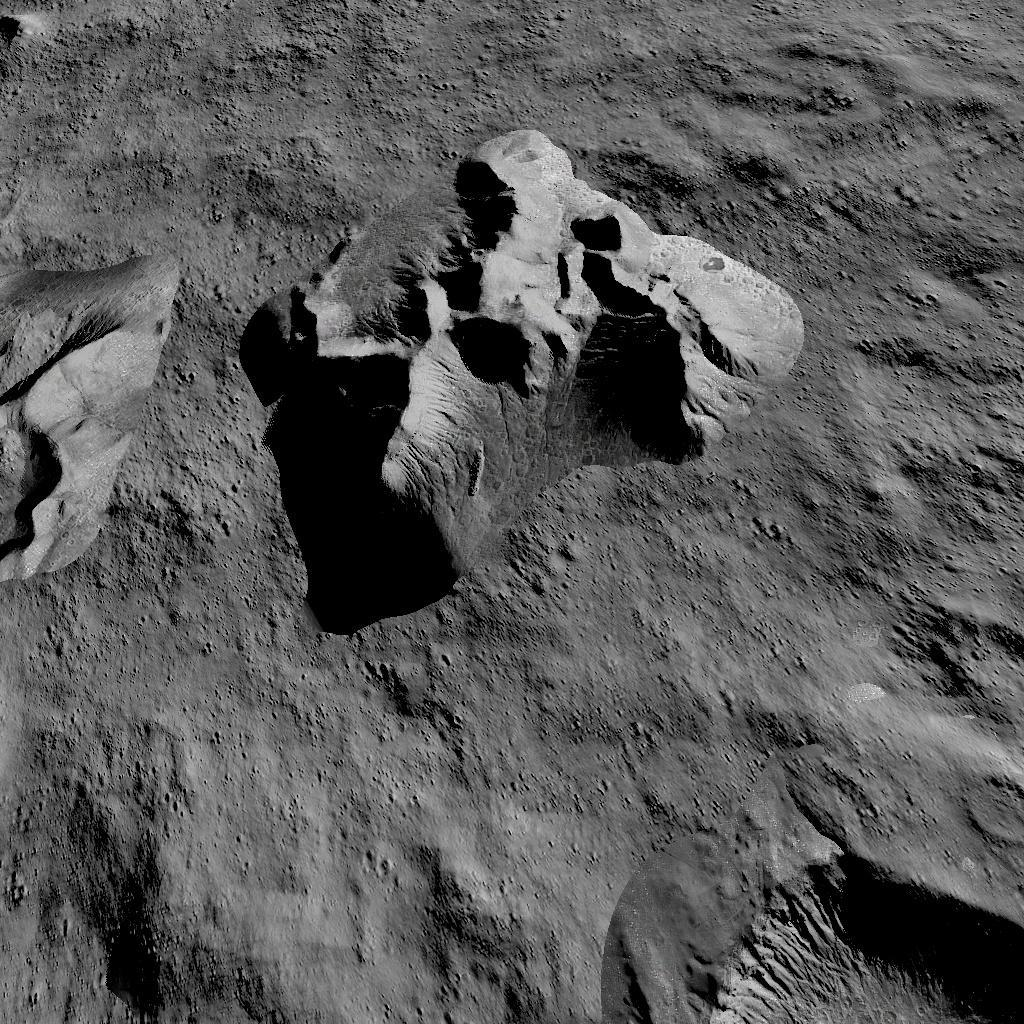Boulders: (236, 114, 808, 632), (0, 244, 192, 584)
Crater: (679, 822, 1024, 1024), (909, 586, 1024, 727), (94, 908, 188, 1016)
Plan surface: (214, 656, 660, 1024), (827, 112, 1024, 548), (233, 0, 1024, 99), (7, 606, 198, 886), (35, 0, 211, 218), (688, 655, 884, 794)
